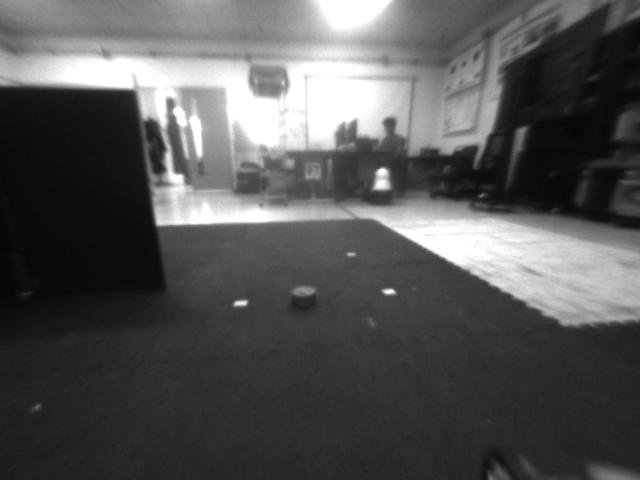dogtoy: (278, 280, 330, 312)
